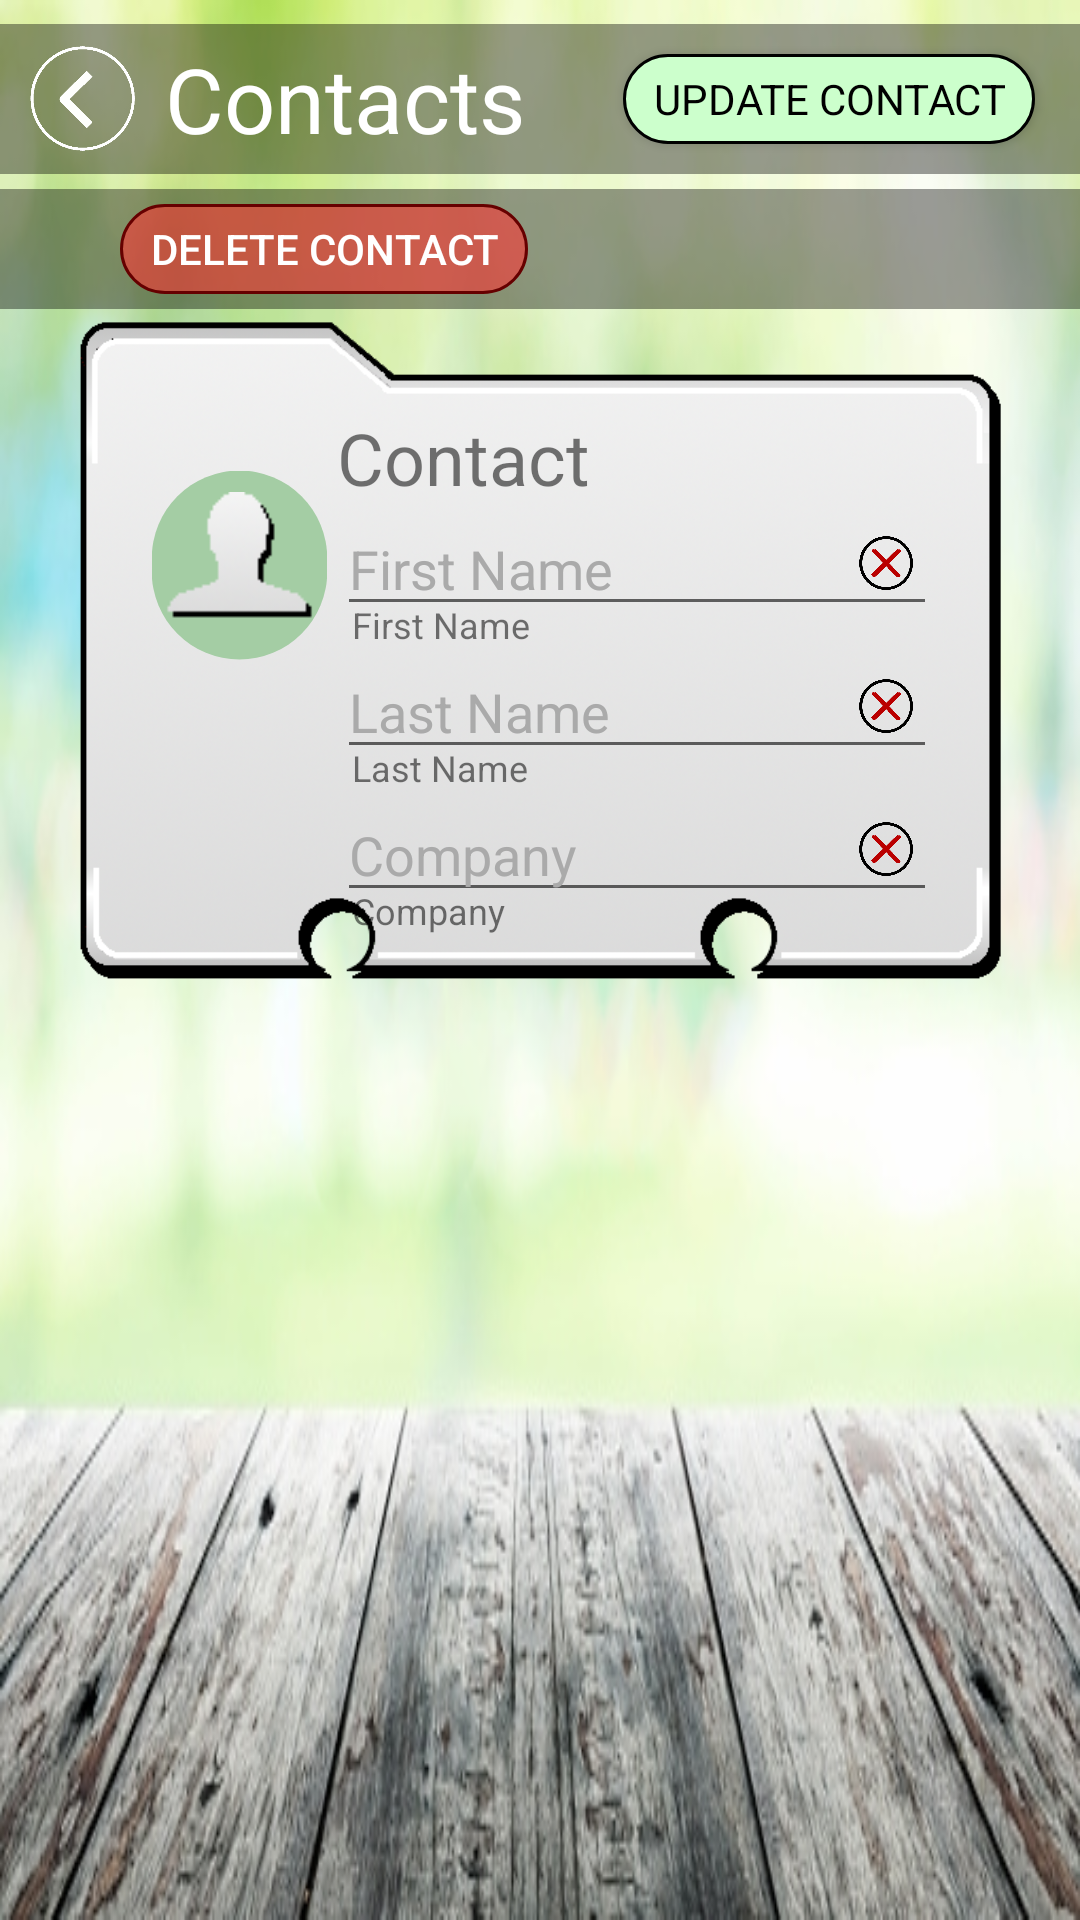

Named icons in this screenshot (1080*1920) and their centers, point (x, y):
back arrow: point (82, 98)
